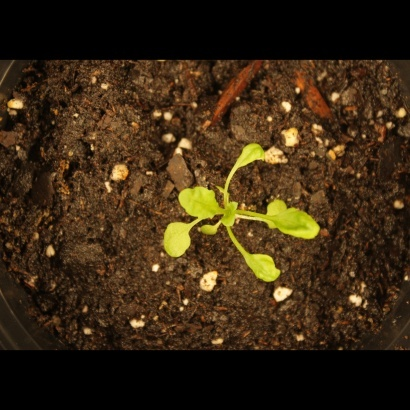leaf: (235, 239, 288, 289), (272, 205, 326, 246), (178, 182, 224, 221), (158, 222, 197, 261), (235, 140, 269, 172), (261, 196, 290, 233), (222, 201, 245, 228), (198, 221, 221, 244)
